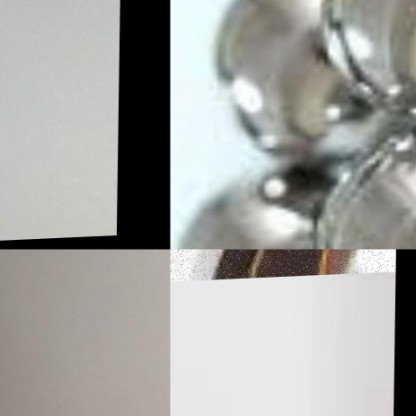ironball: (190, 0, 402, 167), (170, 164, 375, 249), (319, 0, 415, 127), (320, 124, 415, 249), (170, 249, 397, 282)
